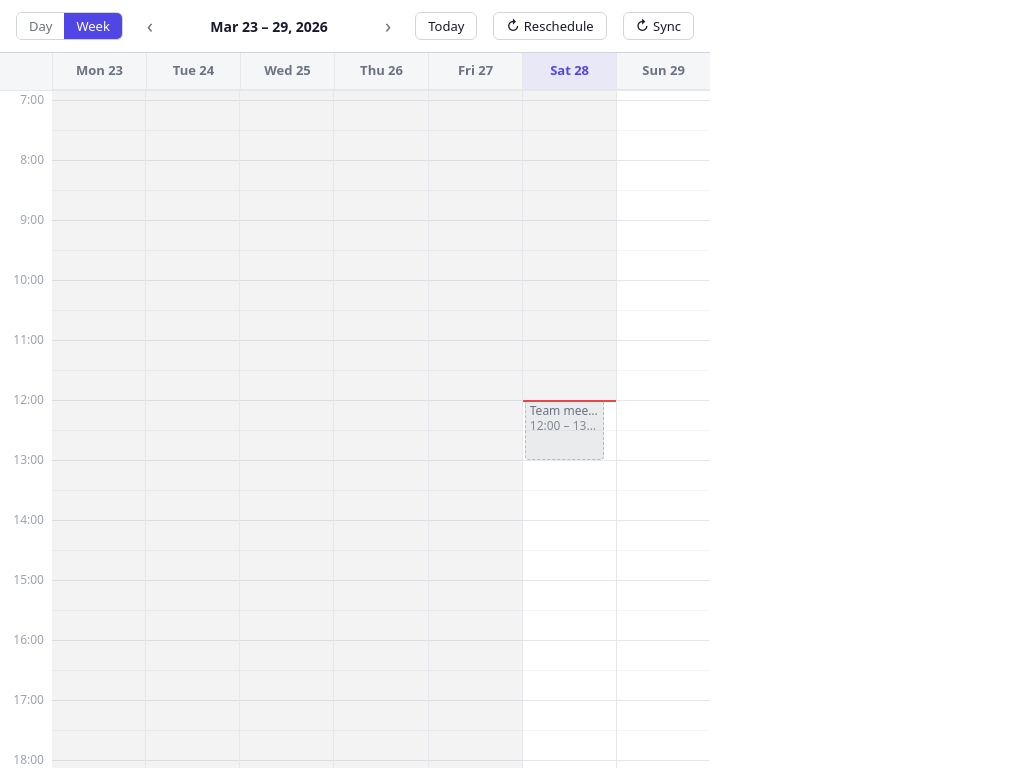
CalendarView — external event editing › opens the edit dialog prefilled when a primary-calendar event is clicked
(page scrolled)
Step 1. Click the button with class "external-event--interactive" → (564, 430), box [525,400,604,460]
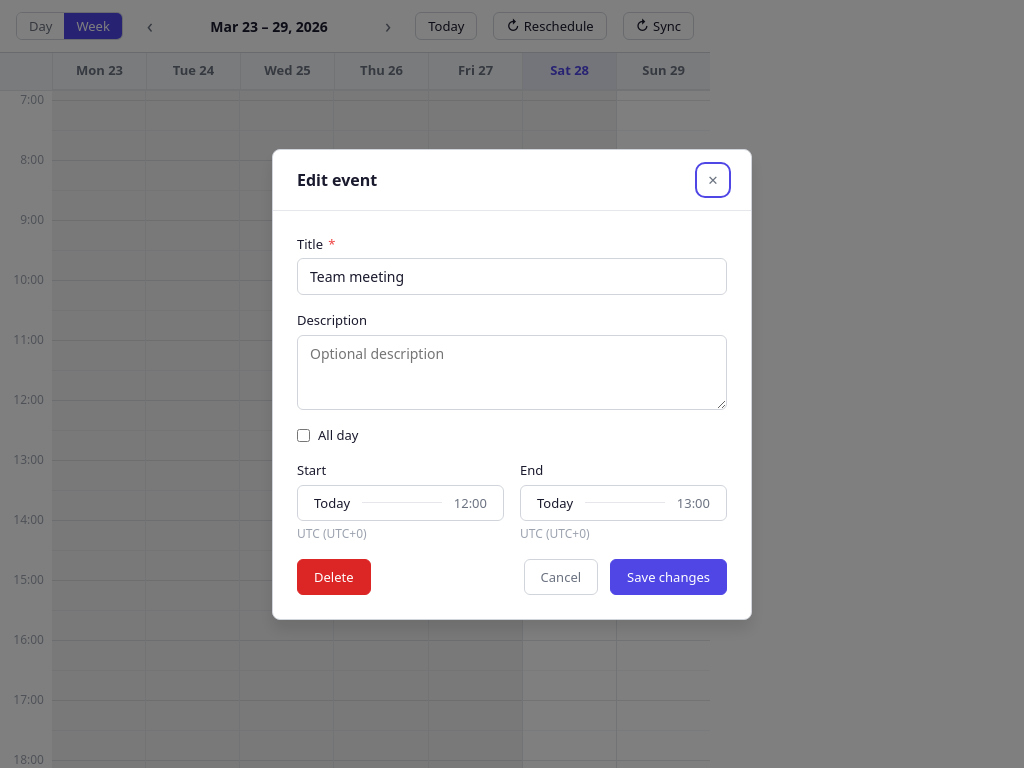
Expected: the heading "Edit event" is shown, [297,170,377,190]
Expected: the field labelled "Title *" holds "Team meeting", [297,258,727,295]
